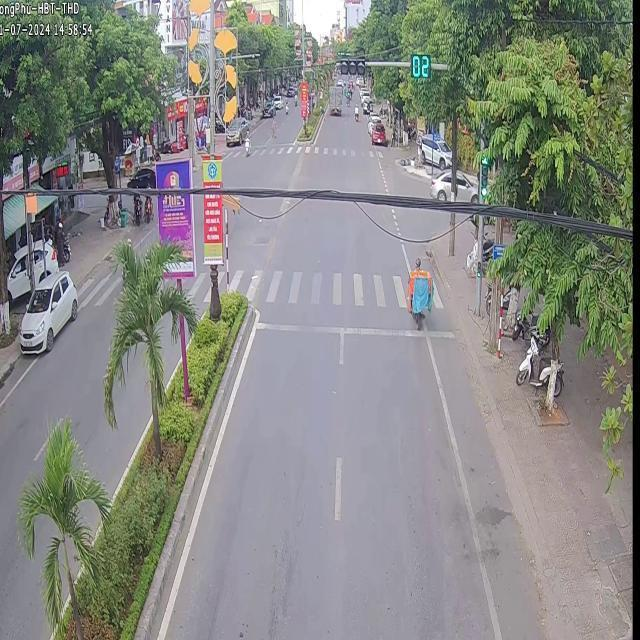car: (17, 269, 77, 351)
green_light: (410, 52, 431, 77), (479, 156, 488, 200)
motobike: (406, 267, 432, 326)
stop_line: (253, 319, 455, 337)
